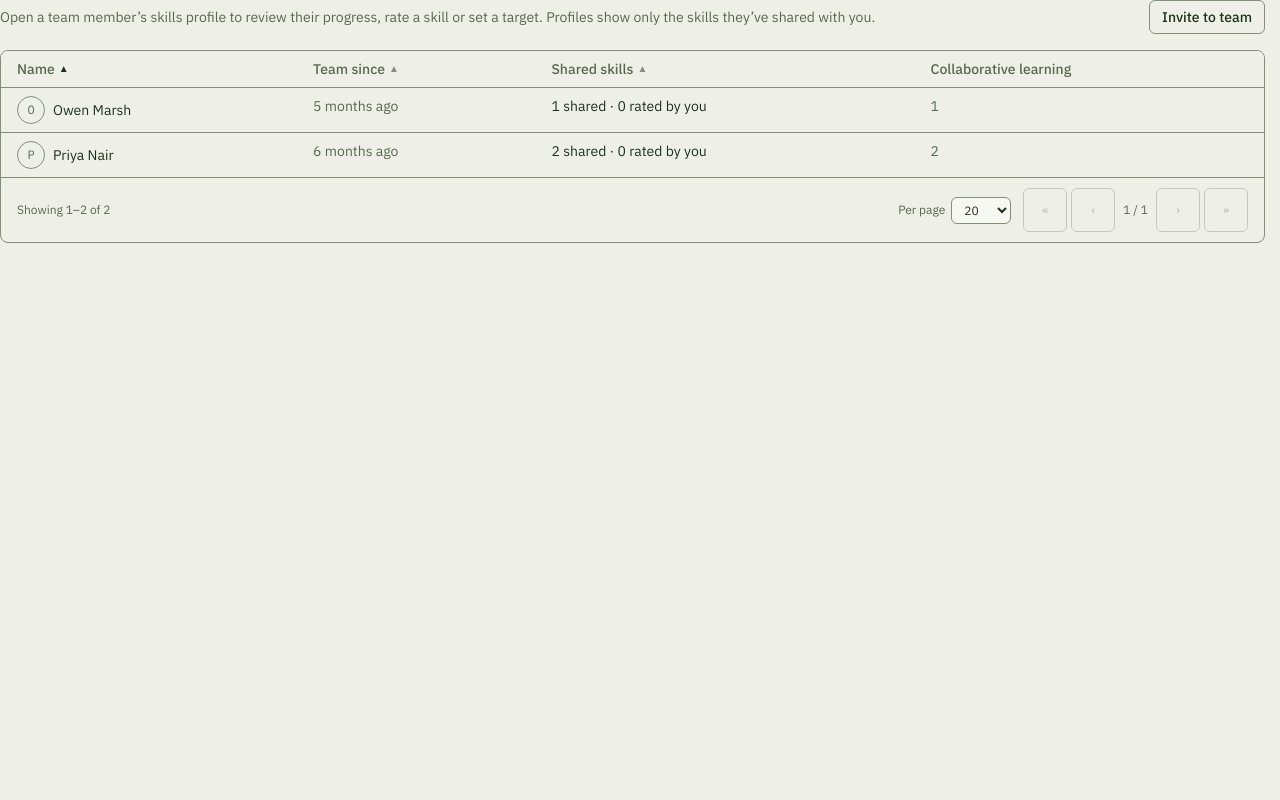
it: ManagerTeamPanel › keeps only the failed address in the form after a partial failure
Click the button "Invite to team": (1207, 17) 1149,0 -> 1265,34
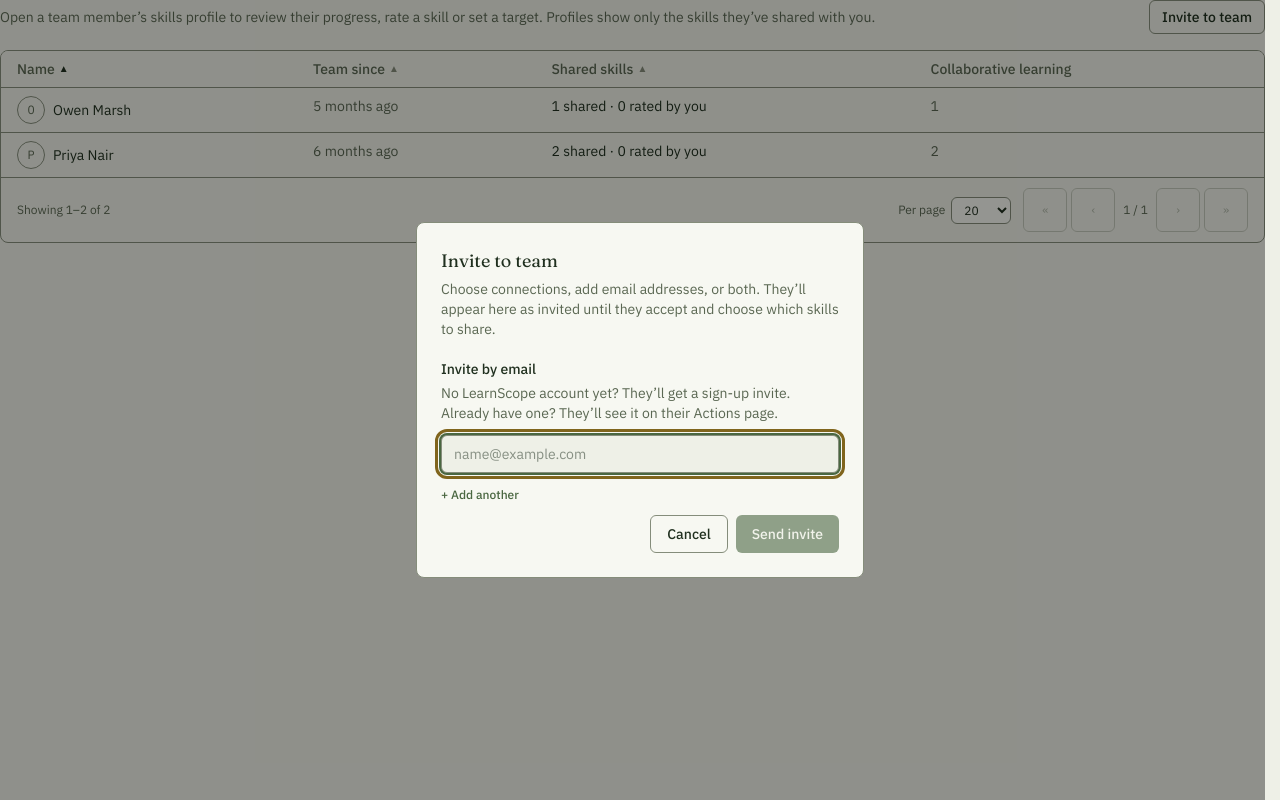
In the field named "Email 1": (640, 454) 441,435 -> 839,473, type "a@example.com"
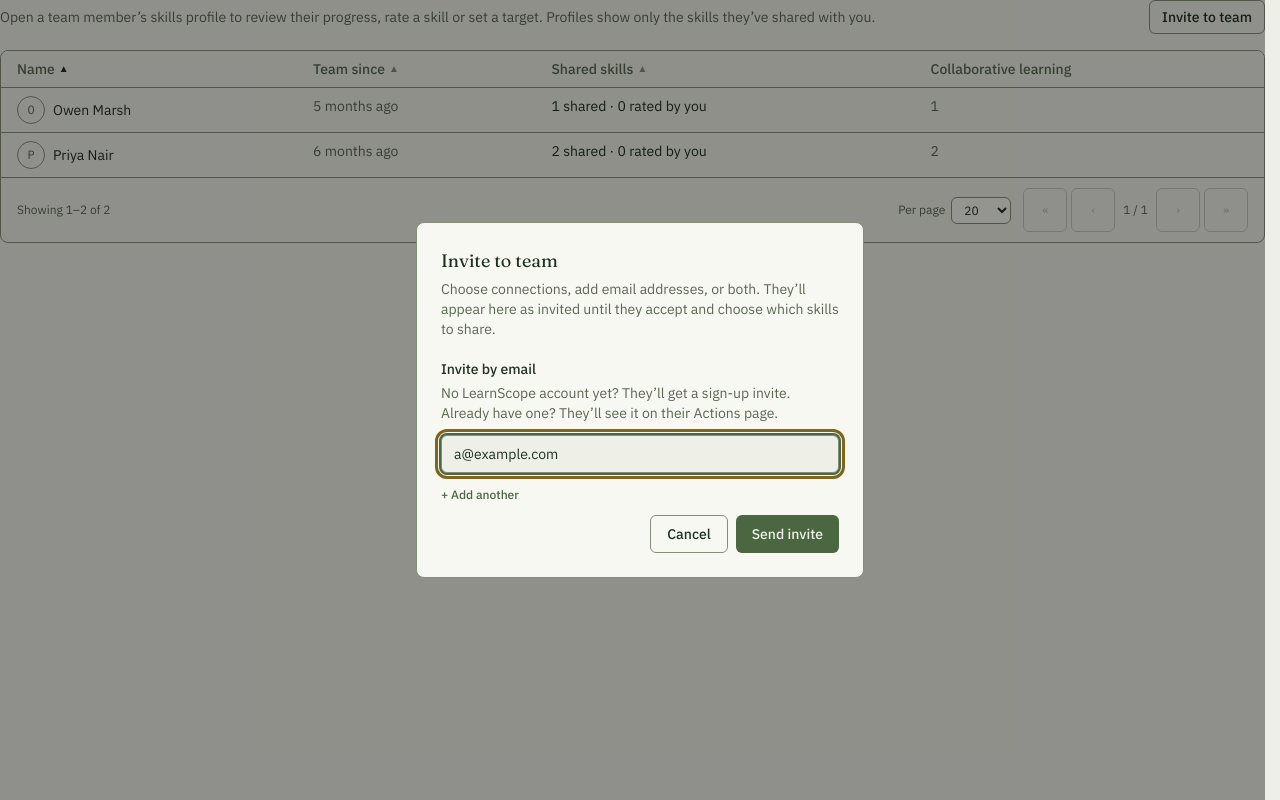
Click the button "+ Add another": (480, 495) 441,487 -> 519,503
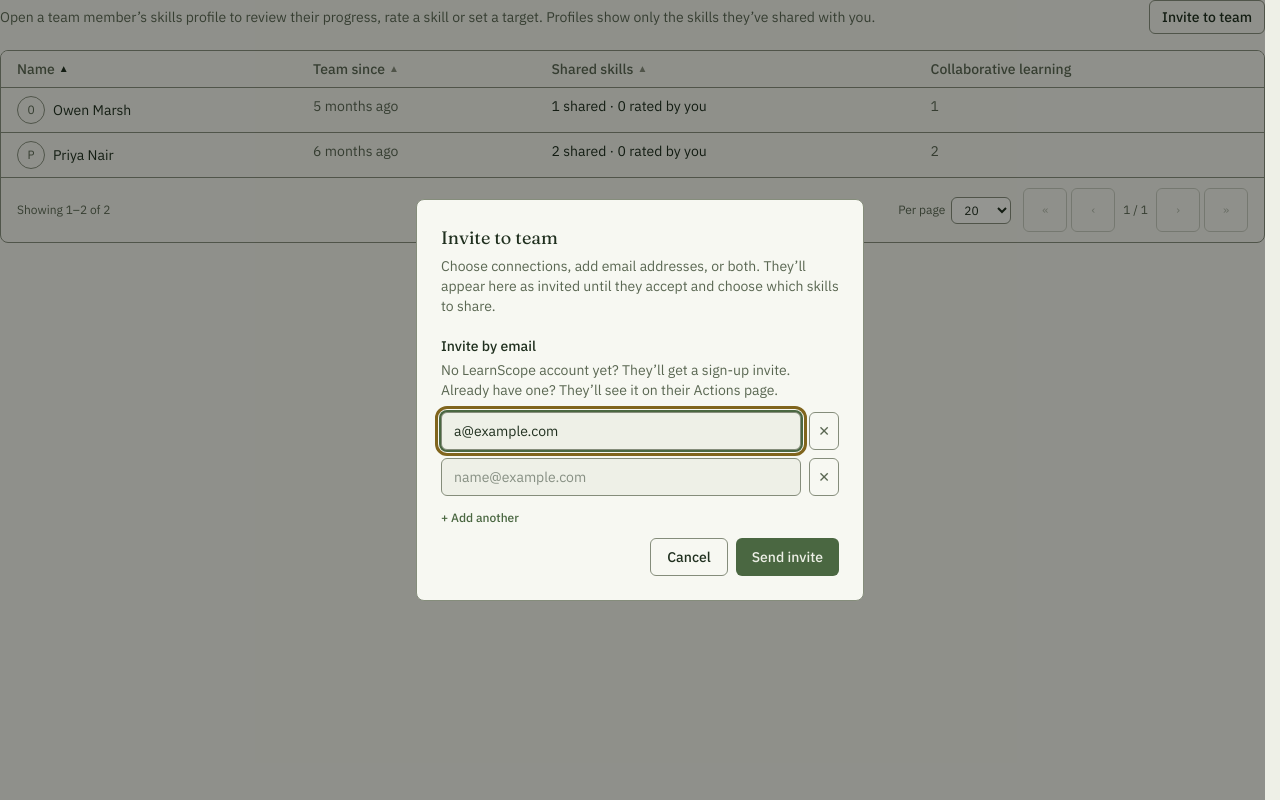
In the field named "Email 2": (621, 477) 441,458 -> 801,496, type "b@example.com"
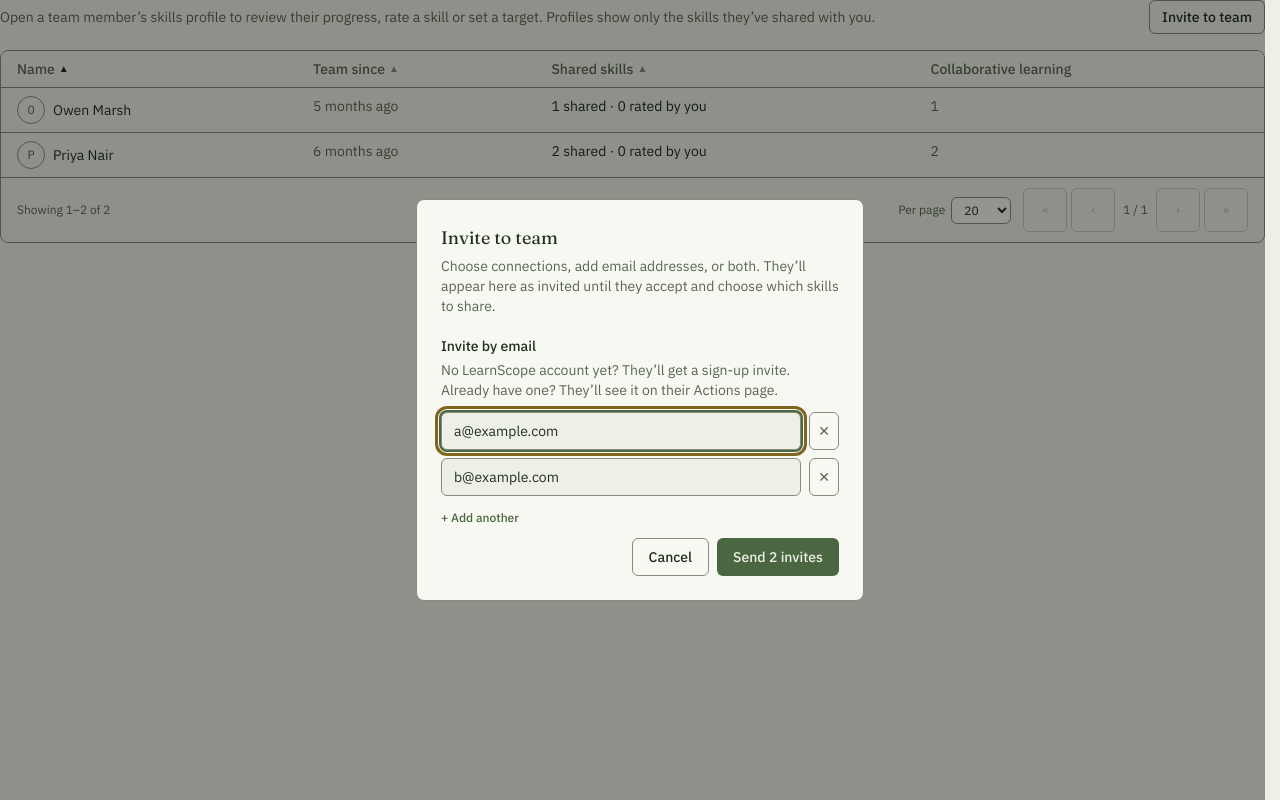
Click the button "Send 2 invites": (778, 557) 717,538 -> 839,576
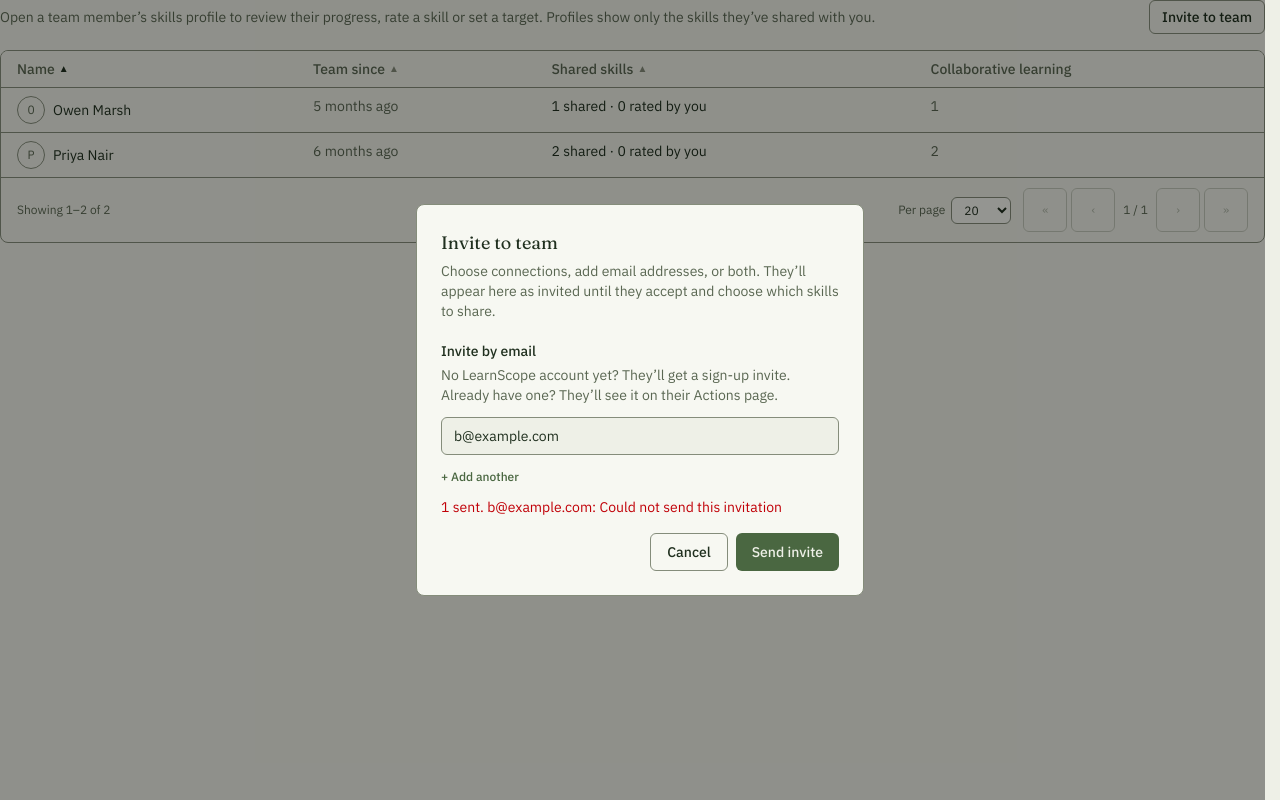
Expected: the field labelled "Email 2" is not shown
Now the message shows "b@example.com", box 441,498 -> 782,516
Now the field named "Email 1" holds "b@example.com", box 441,417 -> 839,455
